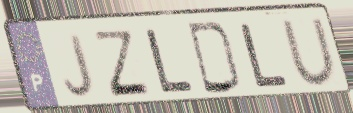D: (185, 20, 244, 96)
J: (61, 31, 96, 99)
L: (237, 21, 292, 90), (142, 27, 197, 95)
U: (278, 15, 341, 88)
Z: (92, 29, 154, 99)
